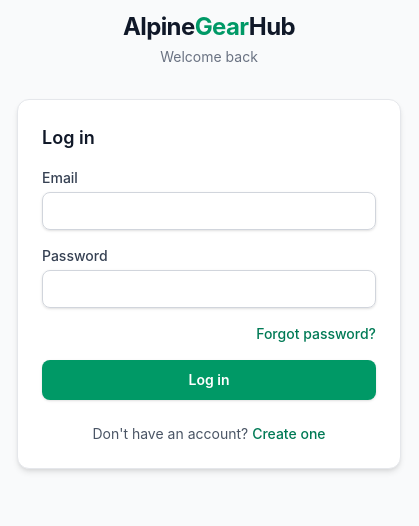
Test: LoginPage › shows a server error and stays on the page when login fails
In the field labelled "Email": (209,211) [42,192,376,230], type "jane@example.com"
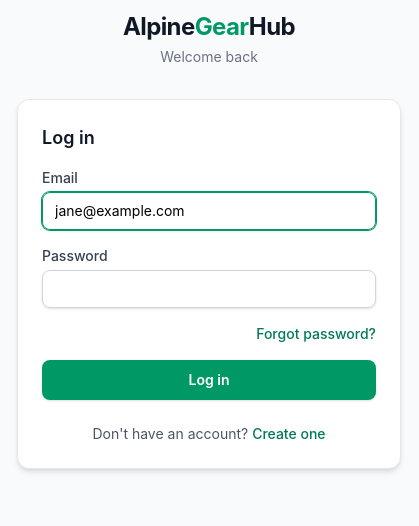
In the password field labelled "Password": (209,289) [42,270,376,308], type "wrong"
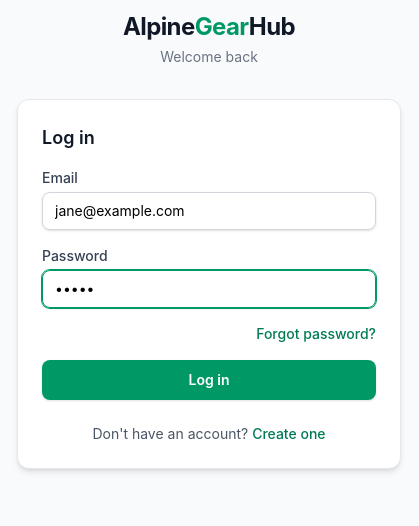
Click the button "Log in": (209,380) [42,360,376,400]
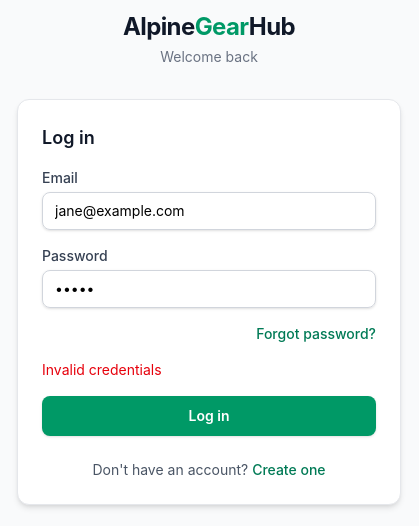
Now the text "Invalid credentials" is shown, box [42,361,162,378]
